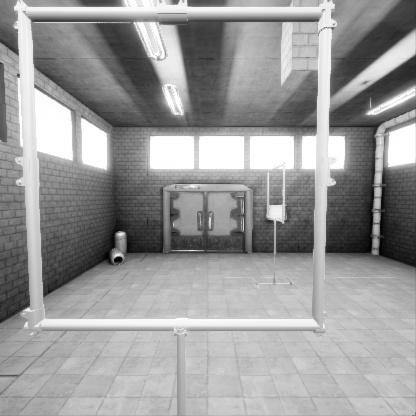gate: (52, 113, 341, 395), (267, 195, 285, 255)
